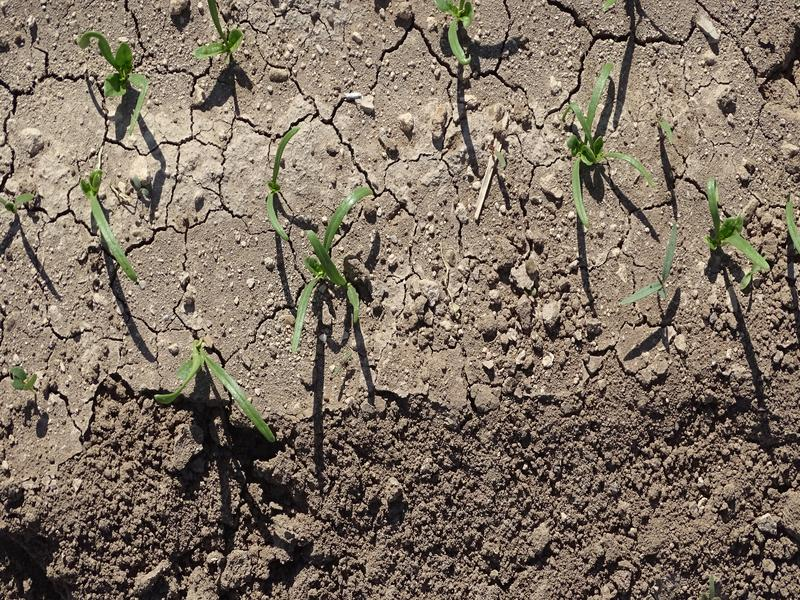Espinaca: (565, 62, 657, 225), (285, 182, 377, 342), (160, 349, 278, 444), (75, 29, 157, 127), (76, 170, 145, 277), (702, 184, 774, 271), (617, 225, 683, 304), (259, 120, 298, 240), (195, 5, 245, 59), (437, 1, 476, 70)
